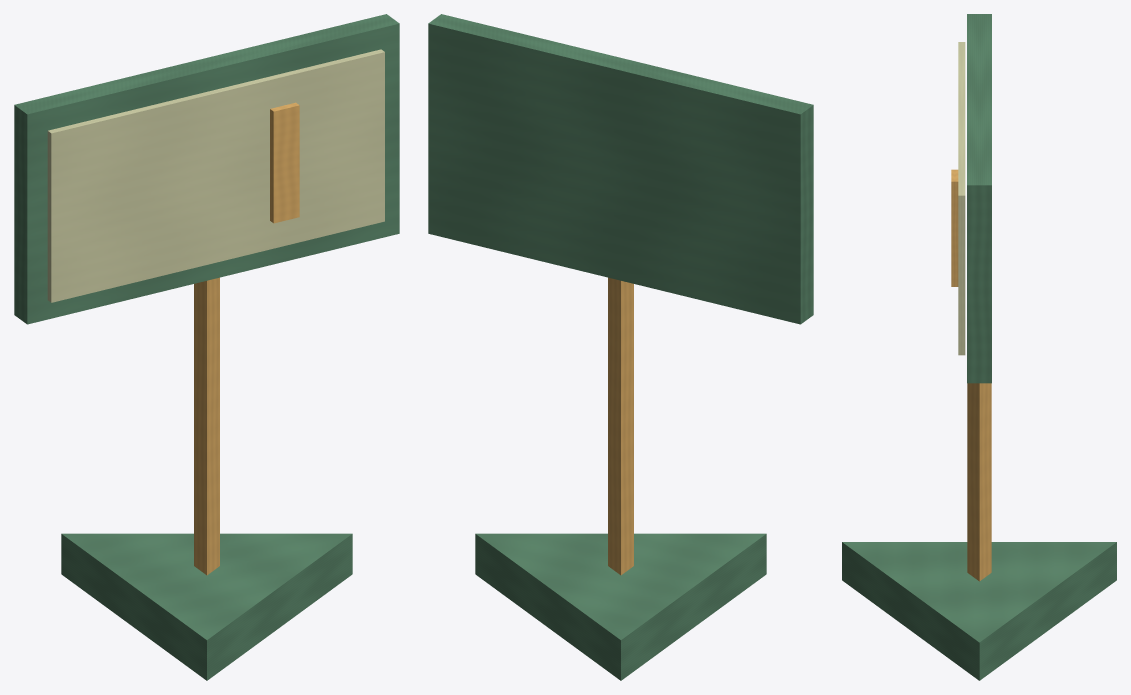
The model's file is atlas100-s003-a11.lod2.glb.
3 renders of one model, left to right at view 1: azimuth 30°, elevation 25°; view 2: azimuth 150°, elevation 25°; view 3: azimuth 270°, elevation 25°, orthographic. The views are drawn at different scales.
Visible parts, largest first — view 1: atlas100-s003-a11:part-003, atlas100-s003-a11:part-002, atlas100-s003-a11:part-000, atlas100-s003-a11:part-001, atlas100-s003-a11:part-006; view 2: atlas100-s003-a11:part-002, atlas100-s003-a11:part-000, atlas100-s003-a11:part-001; view 3: atlas100-s003-a11:part-000, atlas100-s003-a11:part-002, atlas100-s003-a11:part-001, atlas100-s003-a11:part-003, atlas100-s003-a11:part-006.
Boxes of the visible parts, bbox=[...] form: atlas100-s003-a11:part-003: bbox=[47, 49, 384, 302]; atlas100-s003-a11:part-002: bbox=[14, 14, 399, 324]; atlas100-s003-a11:part-000: bbox=[61, 533, 352, 680]; atlas100-s003-a11:part-001: bbox=[194, 277, 219, 575]; atlas100-s003-a11:part-006: bbox=[270, 102, 299, 223]; atlas100-s003-a11:part-002: bbox=[428, 14, 813, 324]; atlas100-s003-a11:part-000: bbox=[475, 533, 766, 680]; atlas100-s003-a11:part-001: bbox=[608, 277, 633, 575]; atlas100-s003-a11:part-000: bbox=[842, 542, 1116, 680]; atlas100-s003-a11:part-002: bbox=[967, 14, 991, 383]; atlas100-s003-a11:part-001: bbox=[967, 383, 991, 581]; atlas100-s003-a11:part-003: bbox=[958, 42, 965, 355]; atlas100-s003-a11:part-006: bbox=[951, 169, 958, 286].
Size of the model in its own units: 1.15 by 1.61 by 0.7794.
Materials: 3 (3 with a texture image).
